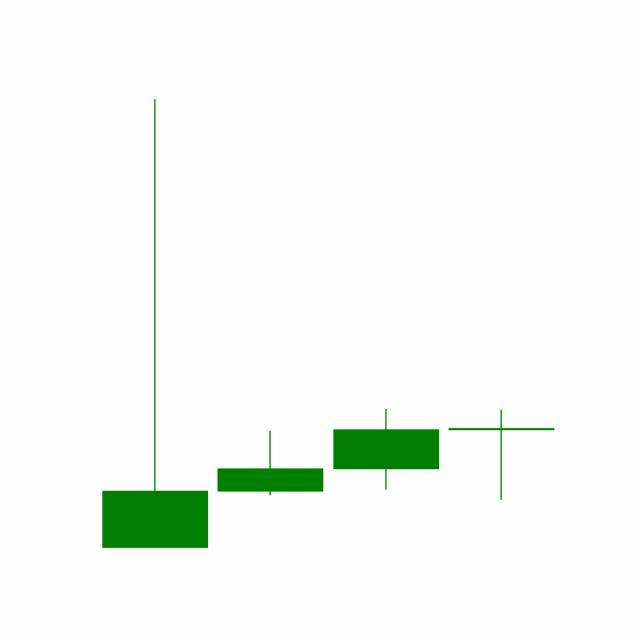Dragonfly Doji: (444, 408, 560, 502)
